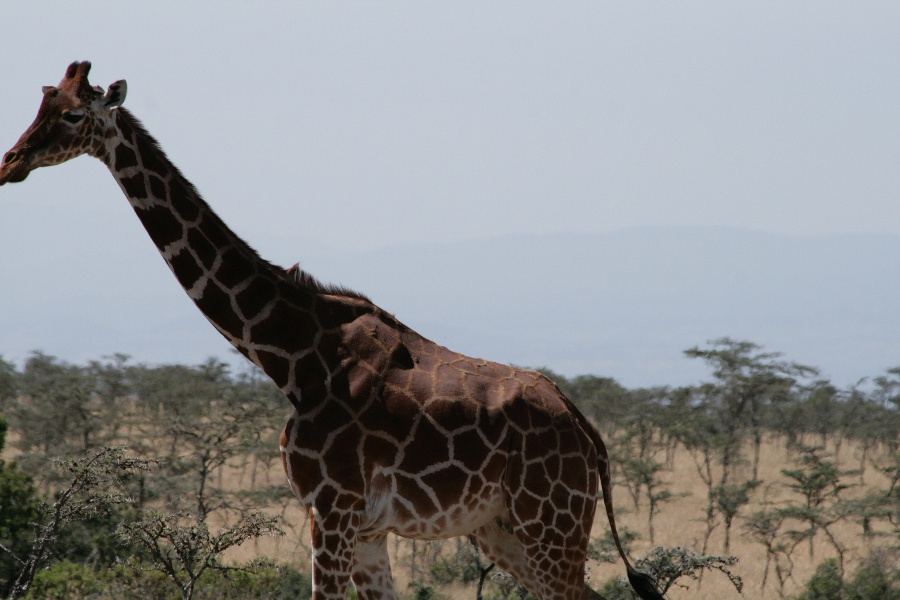giraffe: (0, 53, 678, 599)
